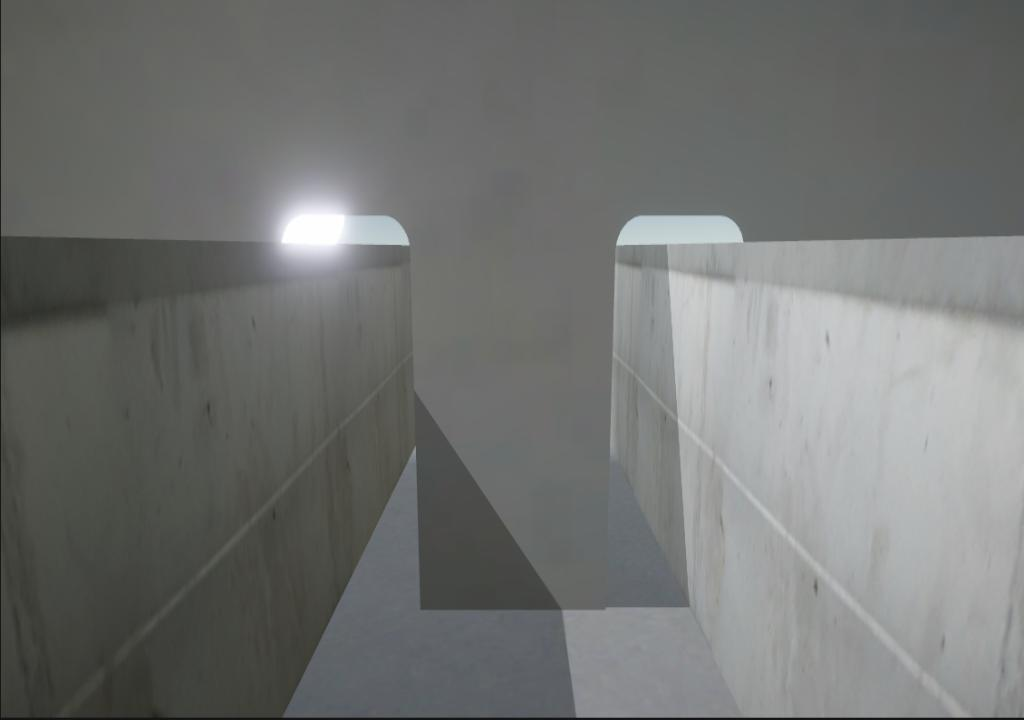fillet_yong_jeop_jang: (404, 590, 620, 627)
